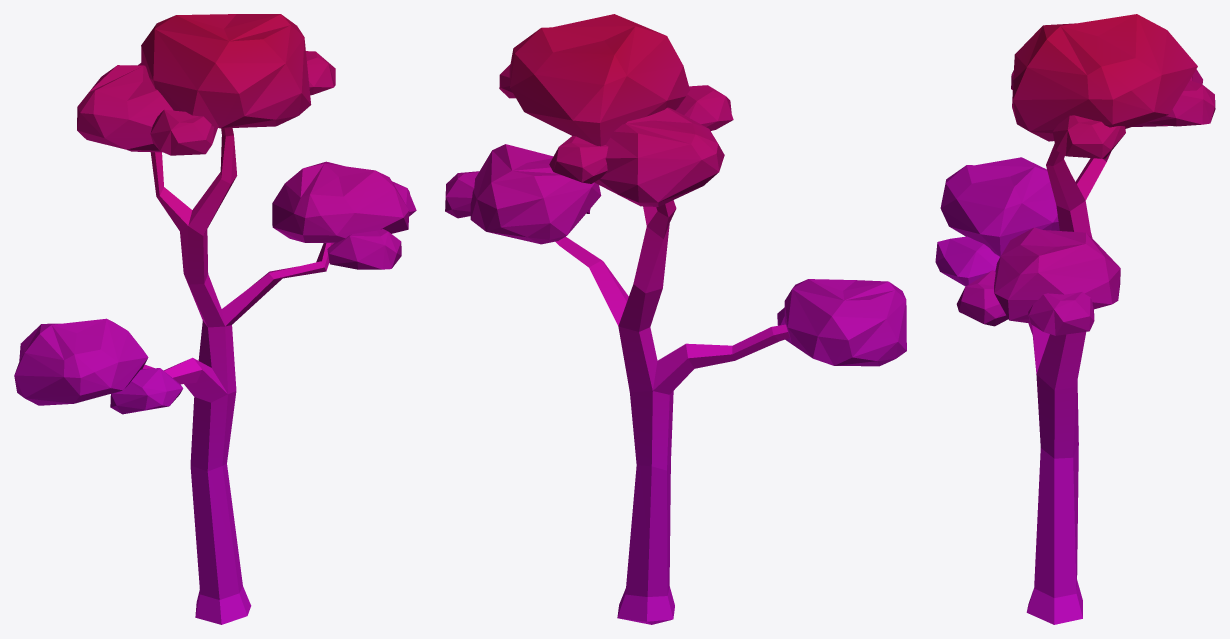
Rendered from SM_Tree_TallRound_01.gltf.
The picture shows the model from 3 angles, left to right: view 1: azimuth 30°, elevation 25°; view 2: azimuth 150°, elevation 25°; view 3: azimuth 270°, elevation 25°; orthographic projection. The views are drawn at different scales.
Parts seen in each view (by area): view 1: SM_Tree_TallRound_01; view 2: SM_Tree_TallRound_01; view 3: SM_Tree_TallRound_01.
Boxes of the visible parts, x1=… form: SM_Tree_TallRound_01: x1=14, y1=14, x2=416, y2=624; SM_Tree_TallRound_01: x1=445, y1=14, x2=906, y2=624; SM_Tree_TallRound_01: x1=935, y1=14, x2=1215, y2=624.
Bounding box in the file's own units: 4.78 × 6.36 × 2.68.
